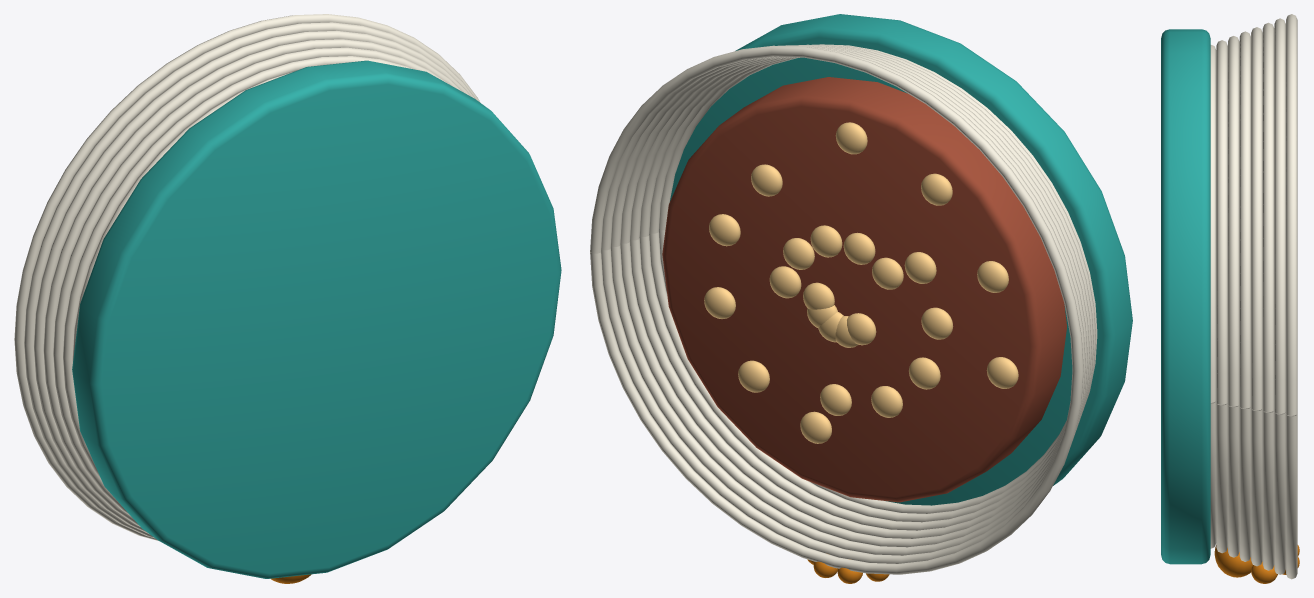
The model's file is RunnerFoodBowl.fbx.
The picture shows the model from 3 angles, left to right: view 1: azimuth 30°, elevation 25°; view 2: azimuth 150°, elevation 25°; view 3: azimuth 270°, elevation 25°; orthographic projection.
Visible parts, largest first — view 1: RunnerFoodBowl; view 2: RunnerFoodBowl; view 3: RunnerFoodBowl.
Boxes of the visible parts, x1,y1,x2,y2 form: RunnerFoodBowl: [14, 14, 561, 583]; RunnerFoodBowl: [590, 14, 1132, 583]; RunnerFoodBowl: [1161, 14, 1299, 583].
Size of the model in its own units: 0.78 by 0.8115 by 0.1911.
